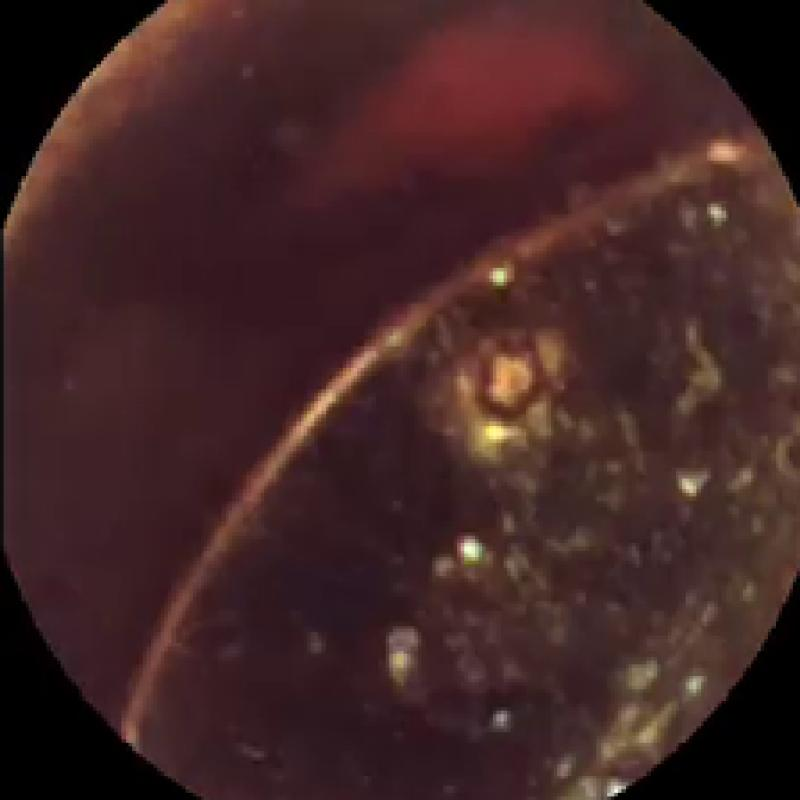bleeding: (304, 21, 625, 186)
